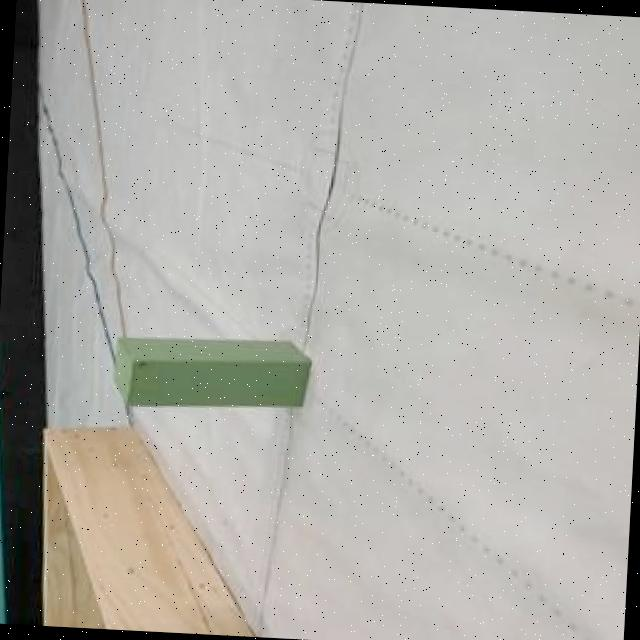greenbox: (107, 327, 316, 418)
